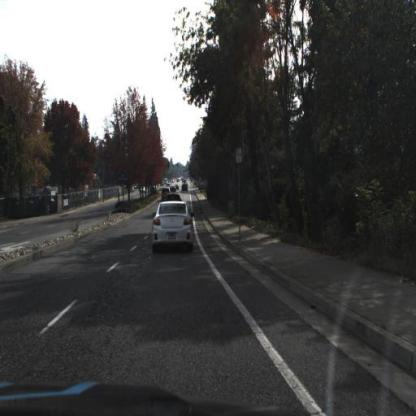car: (149, 200, 194, 251), (165, 190, 183, 207), (160, 186, 174, 204), (138, 185, 148, 197), (181, 182, 190, 195)
